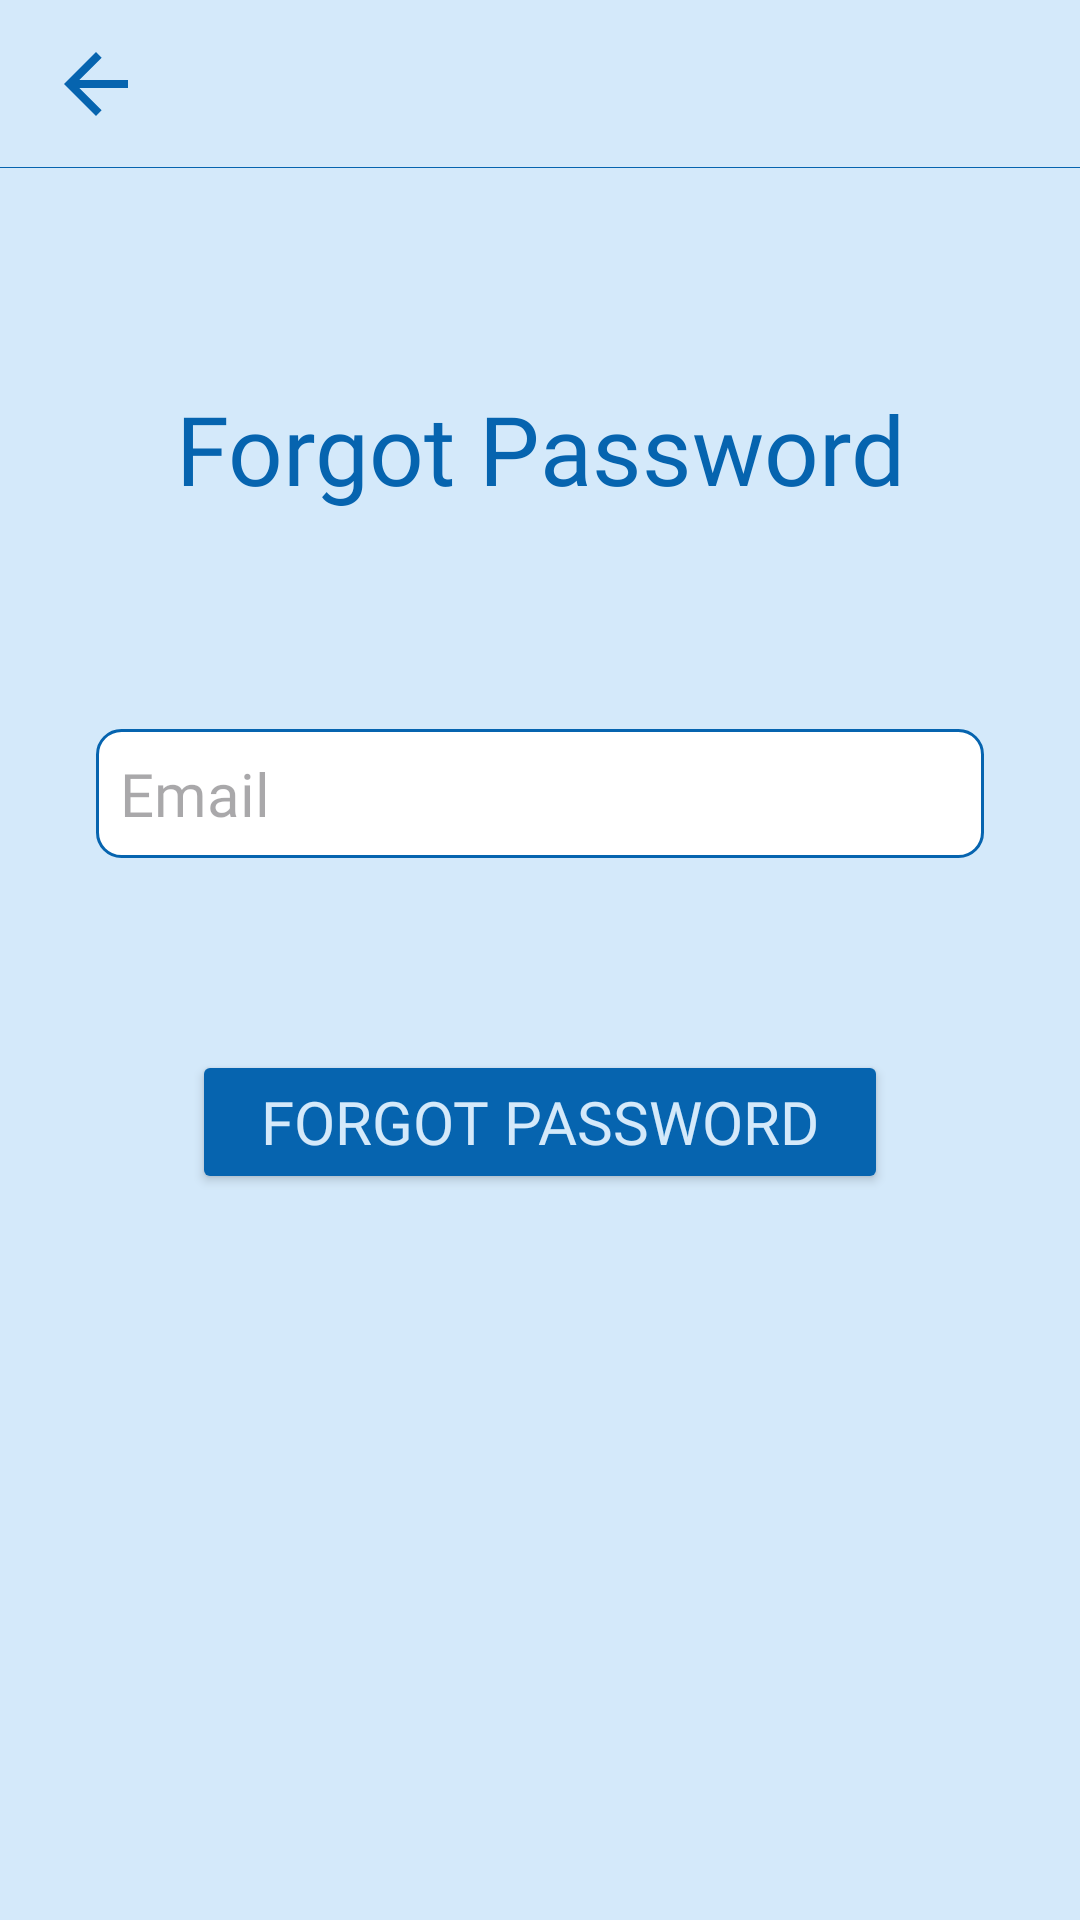

Icons on this 1080 × 1920 Android screen, each with the point to tap as point (x, y):
arrow back: point (96, 84)
